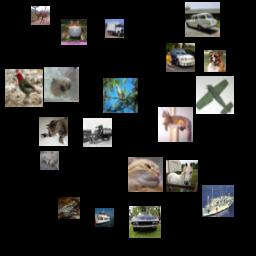airplane: (196, 76, 234, 114)
automobile: (185, 2, 220, 37), (129, 206, 161, 238), (166, 43, 195, 72)
bird: (5, 69, 43, 107), (103, 78, 138, 113)
cat: (158, 107, 193, 142), (128, 157, 163, 192), (39, 117, 68, 146)
deer: (31, 6, 50, 25)
dog: (44, 67, 79, 102), (204, 50, 226, 72)
frog: (61, 19, 87, 45), (58, 197, 80, 219), (40, 151, 59, 170)
ship: (202, 185, 234, 217), (95, 208, 114, 227)
truck: (83, 118, 112, 147), (105, 19, 124, 38)
